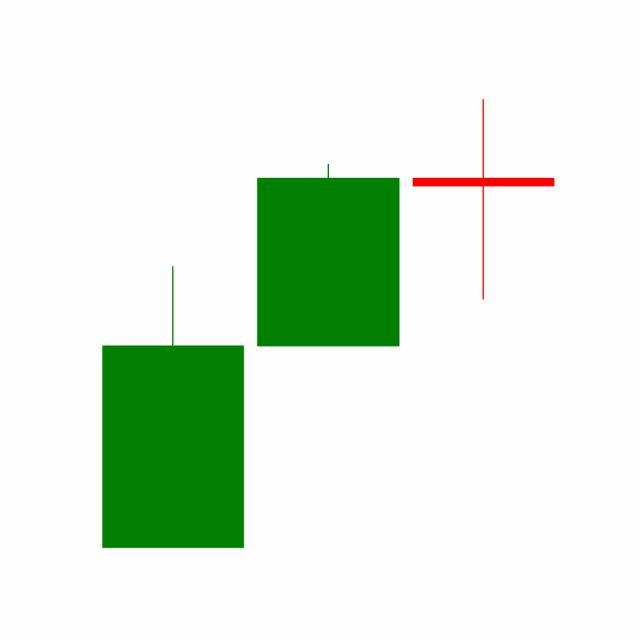Spinning Top: (406, 97, 562, 302)
